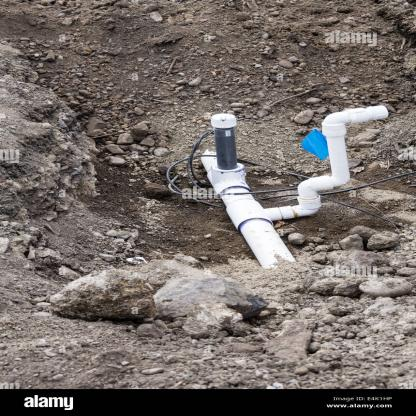PVC: (195, 104, 389, 270)
